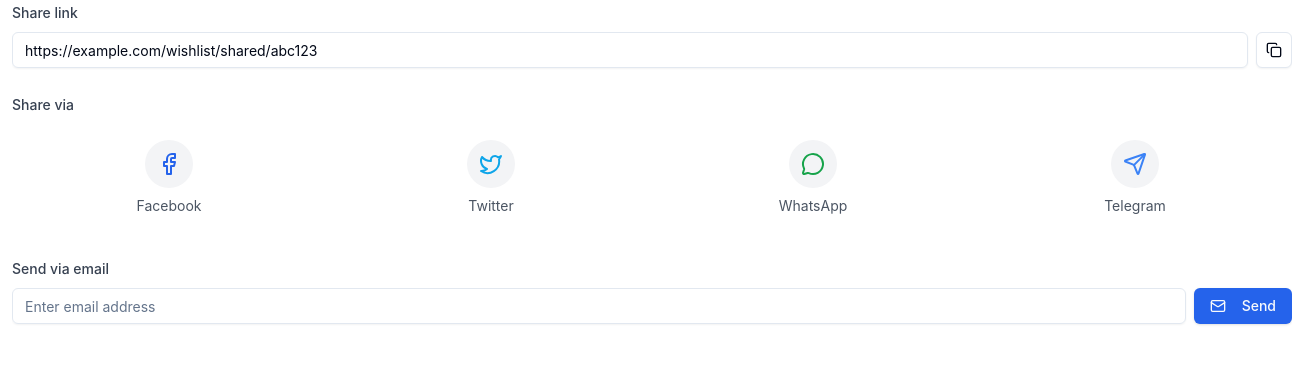
Test: ShareWishlistContent › should show email sent message after submitting
The width and height of the screenshot is (1304, 367).
Type "test@example.com" into the field with test id "email-share-input" at {"x": 599, "y": 306}, box [12,288,1186,324]
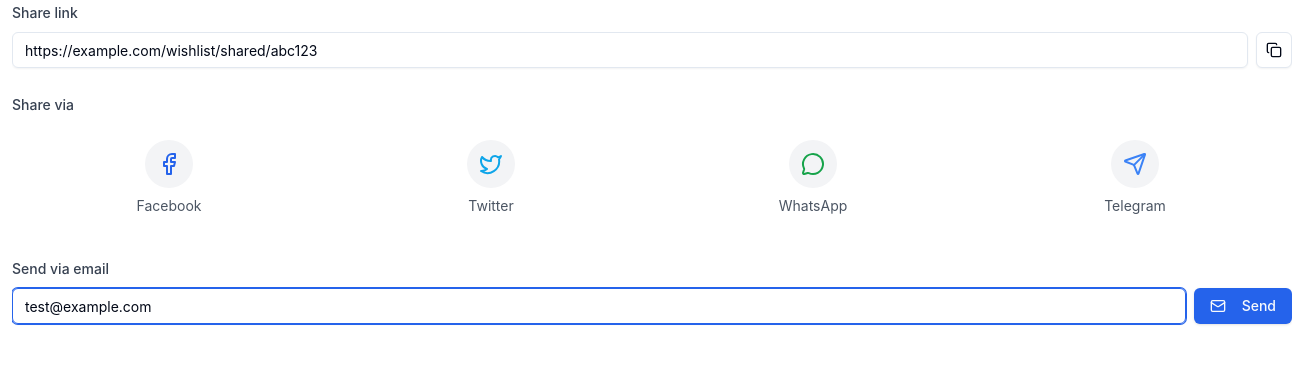
Click the button with test id "send-email-button" at {"x": 1243, "y": 306}, box [1194,288,1292,324]
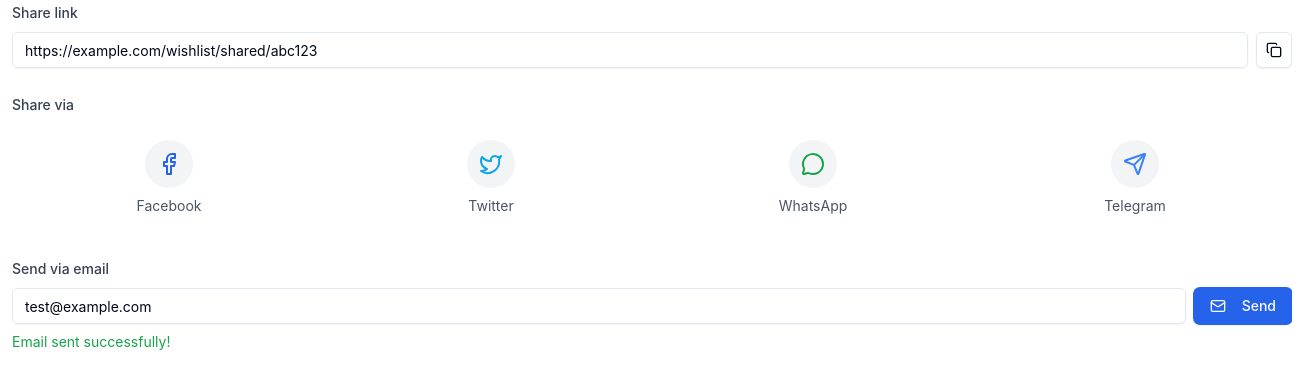
Now the text "Email sent successfully!" is shown, box [12,333,170,350]
